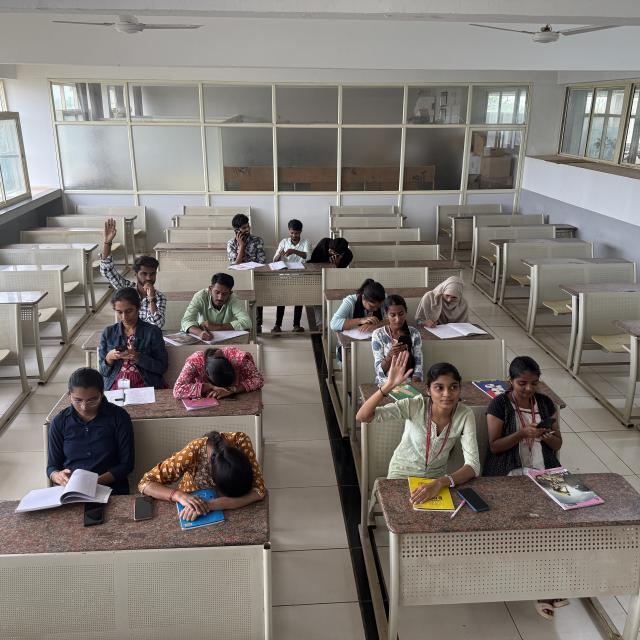Hand Rising: (357, 349, 479, 480), (97, 218, 167, 327)
Reading: (46, 367, 124, 500), (331, 276, 389, 338)
Sleeping: (136, 430, 267, 499), (173, 346, 264, 398)
Using Phone: (482, 354, 562, 464), (99, 290, 166, 386), (370, 295, 430, 379), (228, 213, 266, 262), (313, 236, 356, 272)
Writing: (181, 272, 249, 343), (420, 275, 483, 339)
